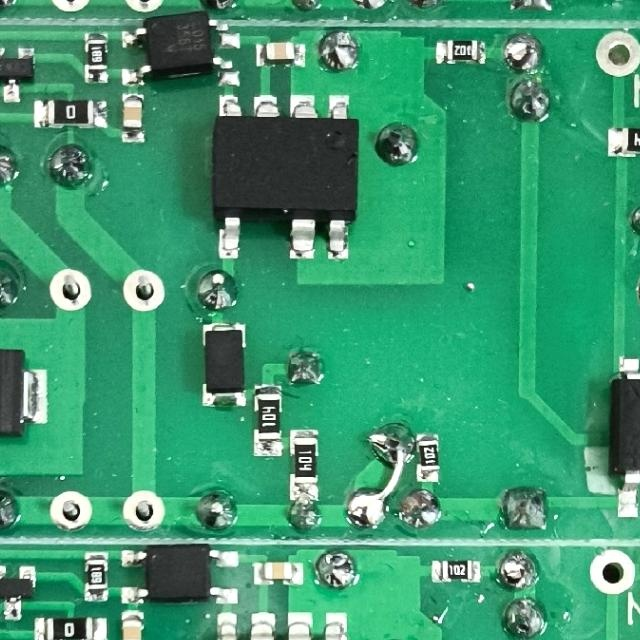chip-capacitor: (254, 41, 308, 68), (251, 561, 305, 586), (121, 92, 145, 145), (120, 609, 146, 640)
chip-resistor: (32, 97, 110, 131), (251, 380, 284, 459), (289, 426, 321, 502), (33, 615, 110, 640), (435, 37, 490, 66), (82, 549, 110, 604), (83, 29, 110, 86), (415, 432, 444, 485), (430, 558, 483, 585)
diode: (201, 321, 248, 409)
ic: (210, 91, 361, 261), (120, 10, 233, 87), (118, 543, 241, 606)
transistor: (0, 564, 39, 622), (0, 44, 37, 103)
